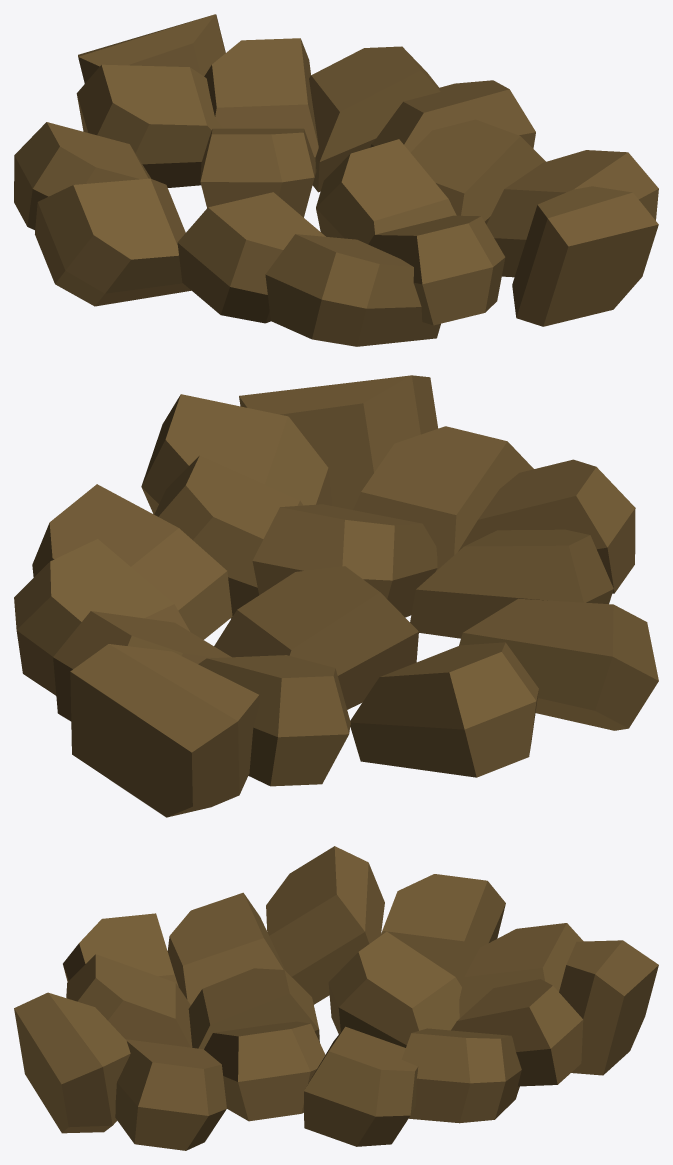
The model's file is Carnecitas.fbx.
The picture shows the model from 3 angles, top to bottom: view 1: azimuth 30°, elevation 25°; view 2: azimuth 150°, elevation 25°; view 3: azimuth 270°, elevation 25°; orthographic projection. The views are drawn at different scales.
Visible parts, largest first — view 1: Cube.014; view 2: Cube.014; view 3: Cube.014.
Part boxes in pixels (bbox=[...]): Cube.014: bbox=[14, 14, 658, 346]; Cube.014: bbox=[14, 375, 658, 817]; Cube.014: bbox=[14, 846, 658, 1150].
Size of the model in its own units: 114 by 26.22 by 135.
